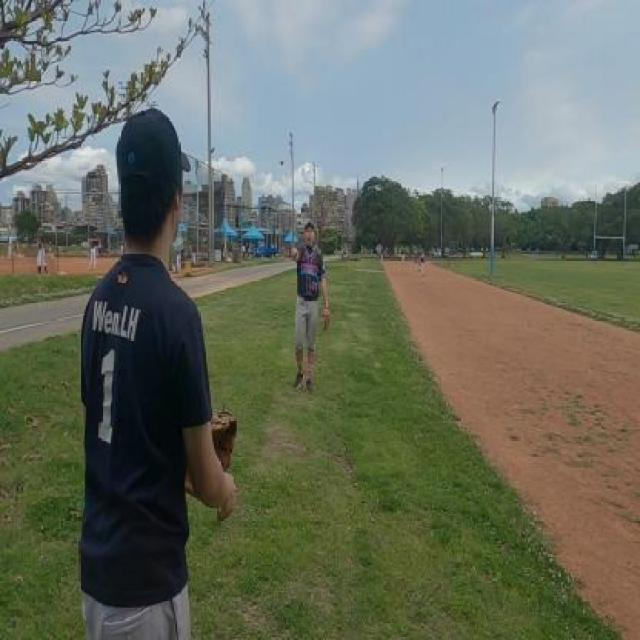baseball: (278, 157, 284, 166)
